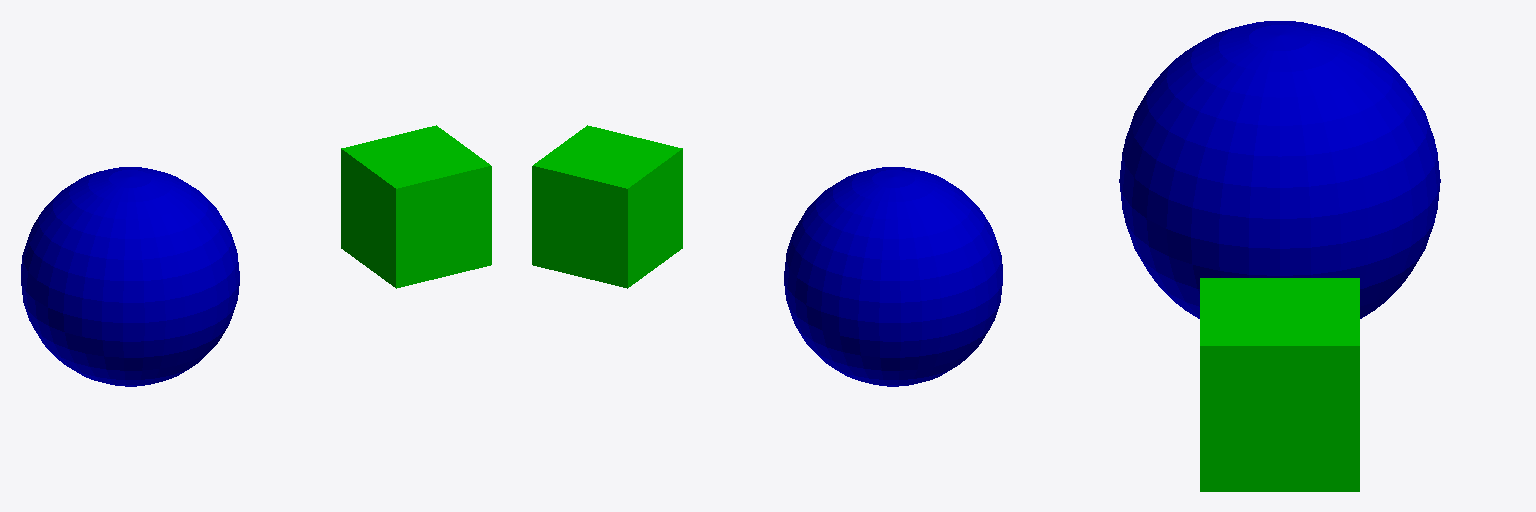
robot.urdf — A_vs_B:
<?xml version="1.0"?>
<robot name="A_vs_B">
  <material name="blue">
    <color rgba="0 0 0.8 .5"/>
  </material>
  <material name="green">
    <color rgba="0 0.8 0 .5"/>
  </material>
  <link name="A">
    <visual>
      <geometry>
        <sphere radius="1"/>
      </geometry>
      <origin rpy="0.0 0 0" xyz="-1.5 0 0"/>
      <material name="blue"/>
    </visual>
  </link>
  <link name="B">
    <visual>
      <geometry>
        <box size="1 1 1"/>
      </geometry>
      <origin rpy="0 0 0" xyz="1.5 0 0"/>
      <material name="green"/>
    </visual>
  </link>
  <joint name="joint1" type="revolute">
    <axis xyz="0 0 1"/>
    <limit effort="1" lower="-1" upper="1" velocity="1"/>
    <origin rpy="0 0 0" xyz="0 0 0"/>
    <parent link="A"/>
    <child link="B"/>
  </joint>
</robot>

--- What the picture shows (computed from the rendered views, not written in the file) ---
Views: 3 orthographic renders of the robot side by side, from view 1: azimuth 30°, elevation 25°; view 2: azimuth 150°, elevation 25°; view 3: azimuth 270°, elevation 25°.
Robot: A_vs_B — 2 links, 1 joints (1 revolute); root link A; default pose: all joints at 0.
Links seen in each view (by area): view 1: A, B; view 2: A, B; view 3: A, B.
Link boxes in pixels (bbox=[...]): A: bbox=[21, 167, 239, 386]; B: bbox=[341, 125, 491, 288]; A: bbox=[784, 167, 1002, 386]; B: bbox=[532, 125, 682, 288]; A: bbox=[1119, 21, 1440, 318]; B: bbox=[1200, 278, 1359, 491].
Size in the robot's own frame: 4.5 by 2 by 2 metres.
Geometry: primitives only (box / cylinder / sphere), no mesh files.